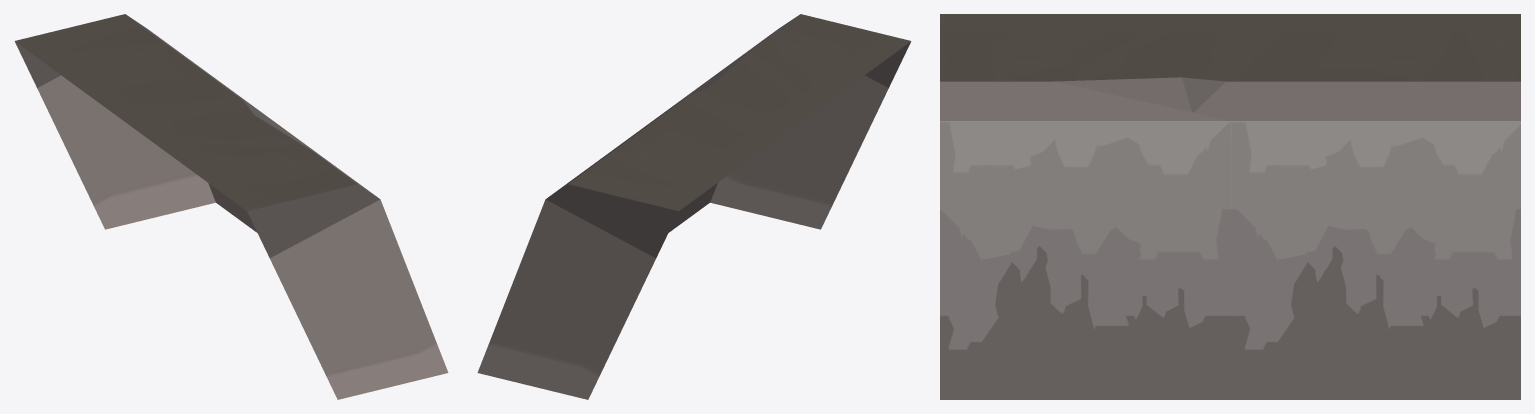
The model's file is SM_Building_Sewer_03.fbx.
The picture shows the model from 3 angles, left to right: view 1: azimuth 30°, elevation 25°; view 2: azimuth 150°, elevation 25°; view 3: azimuth 270°, elevation 25°; orthographic projection. The views are drawn at different scales.
Visible parts, largest first — view 1: SM_Building_Sewer_03; view 2: SM_Building_Sewer_03; view 3: SM_Building_Sewer_03.
Boxes of the visible parts, x1,y1,x2,y2 form: SM_Building_Sewer_03: (14, 14, 448, 399); SM_Building_Sewer_03: (477, 14, 911, 399); SM_Building_Sewer_03: (940, 14, 1520, 399).
Size of the model in its own units: 2 by 2 by 4.
